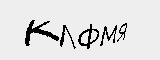К: (24, 17, 60, 49)
Л: (59, 22, 76, 49)
М: (98, 23, 117, 46)
Ф: (76, 21, 100, 50)
Я: (116, 20, 132, 42)
